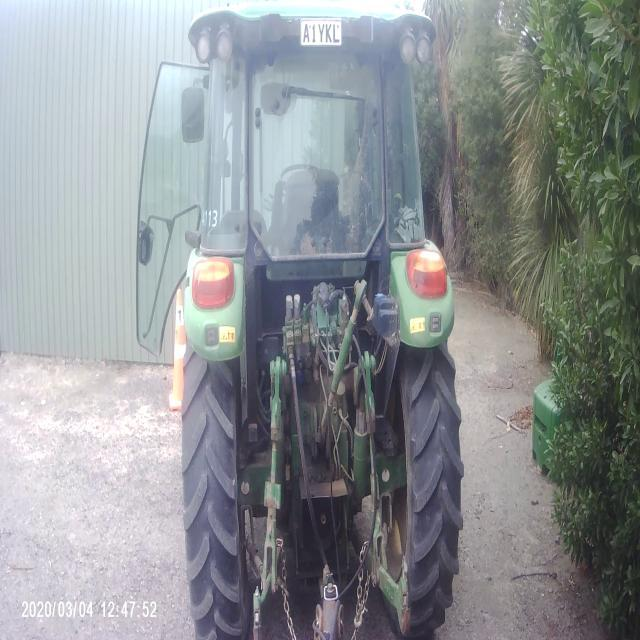Tratores - v5 YOLO V8L 2024-11-13: (145, 1, 488, 640)
